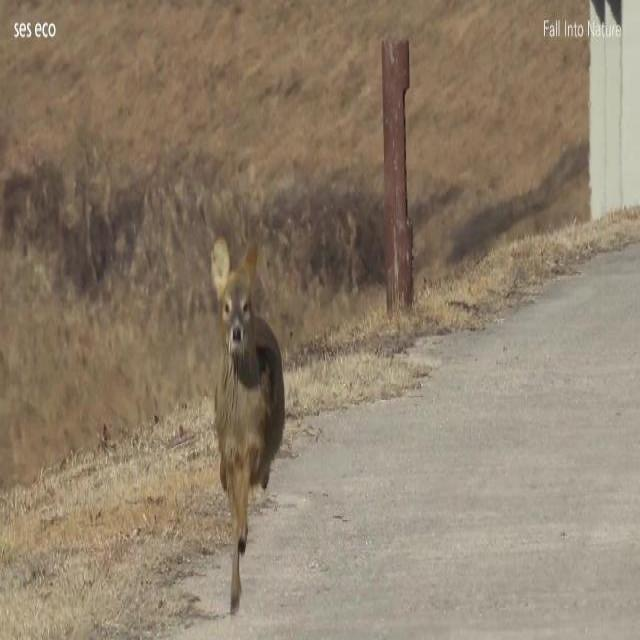deer: (209, 234, 284, 614)
